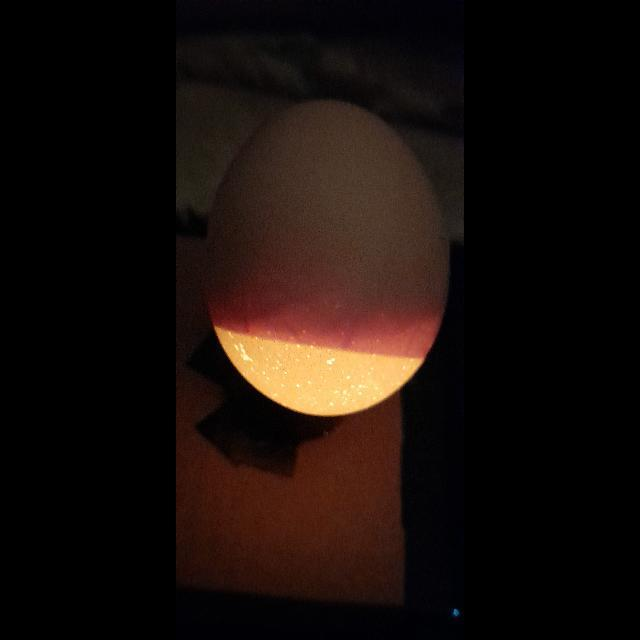Fertile: (199, 90, 457, 422)
